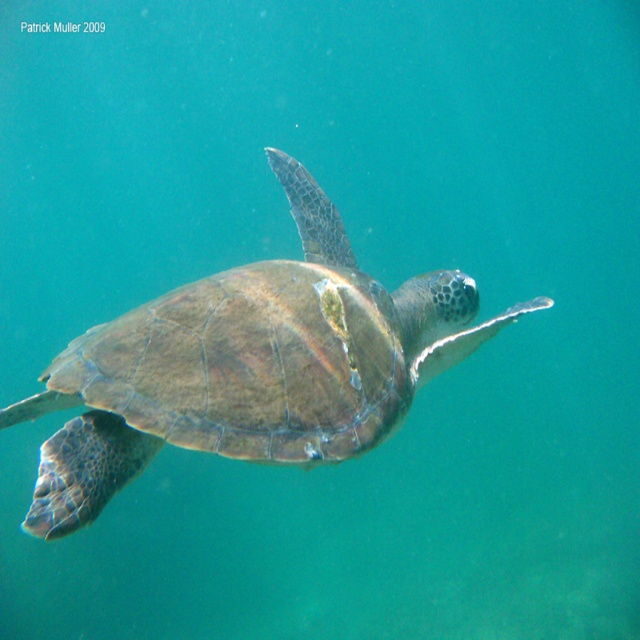Sea turtle: (0, 144, 558, 545)
